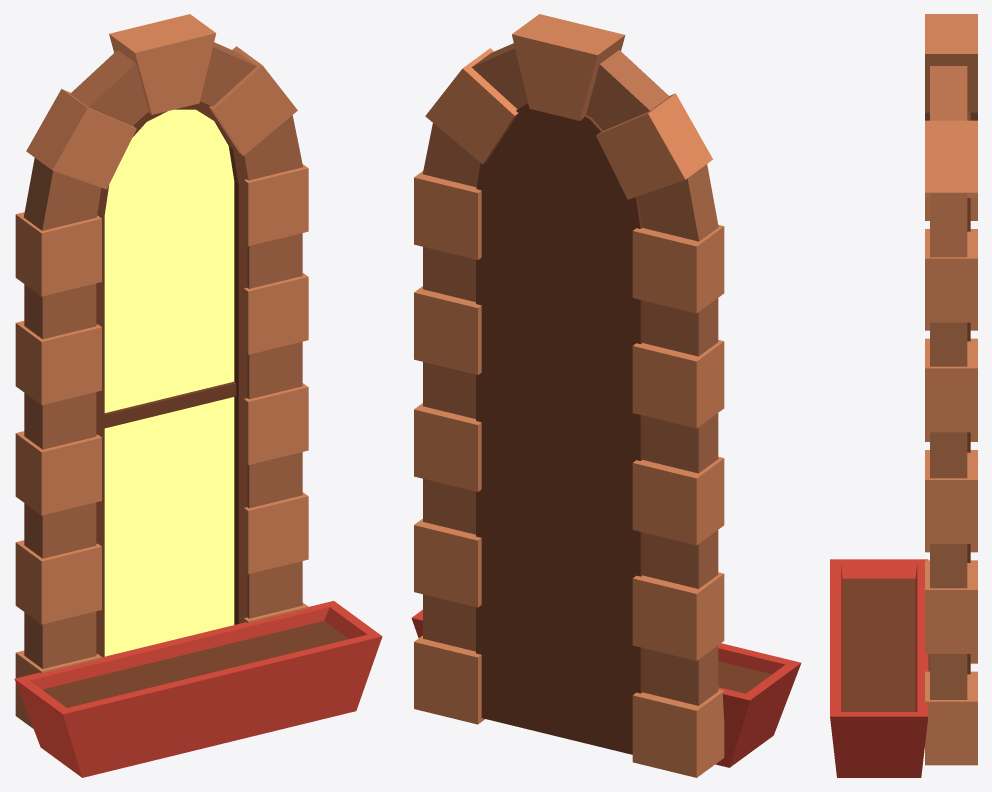
The model's file is village_pack_window_5.glb.
The picture shows the model from 3 angles, left to right: view 1: azimuth 30°, elevation 25°; view 2: azimuth 150°, elevation 25°; view 3: azimuth 270°, elevation 25°; orthographic projection. The views are drawn at different scales.
Visible parts, largest first — view 1: window 5_brick 1_0; view 2: window 5_brick 1_0; view 3: window 5_brick 1_0.
Boxes of the visible parts, x1,y1,x2,y2 form: window 5_brick 1_0: (14, 14, 382, 777); window 5_brick 1_0: (411, 14, 801, 777); window 5_brick 1_0: (830, 14, 977, 777).
Size of the model in its own units: 0.868 by 1.74 by 0.3446.
